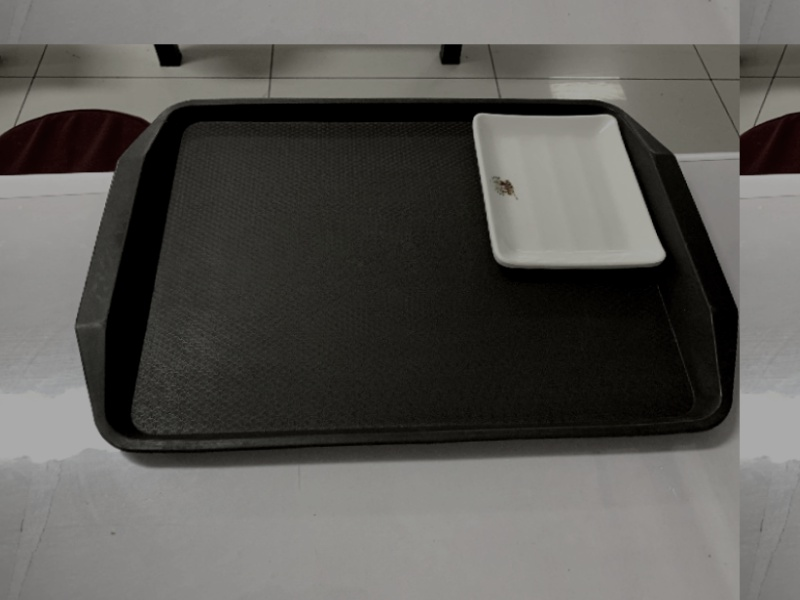dish4: (467, 104, 670, 280)
